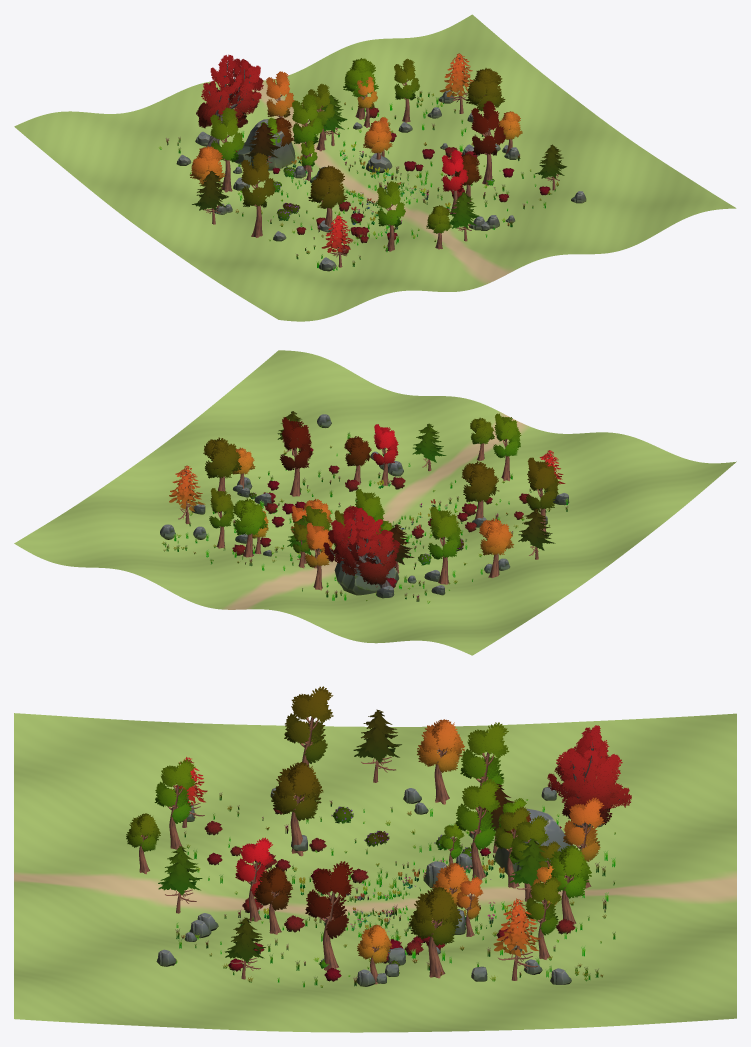
Rendered from clearing.glb.
3 renders of one model, top to bottom at view 1: azimuth 30°, elevation 25°; view 2: azimuth 150°, elevation 25°; view 3: azimuth 270°, elevation 25°, orthographic. The views are drawn at different scales.
Parts seen in each view (by area): view 1: ClearingMoss_surface, Leaves_NormalTree.002_surface, AutumnLeaves_surface, Leaves_TwistedTree.001_surface, Rocks.001_surface, Leaves_Pine_surface, Bark_NormalTree_surface, Grass_surface, Flowers_surface; view 2: ClearingMoss_surface, Leaves_NormalTree.002_surface, Leaves_TwistedTree.001_surface, AutumnLeaves_surface, Rocks.001_surface, Bark_NormalTree_surface, Leaves_Pine_surface, Grass_surface; view 3: ClearingMoss_surface, Leaves_NormalTree.002_surface, AutumnLeaves_surface, Leaves_TwistedTree.001_surface, Bark_NormalTree_surface, Rocks.001_surface, Leaves_Pine_surface, Grass_surface, Flowers_surface.
Boxes of the visible parts, <box> form: ClearingMoss_surface: <box>14,14,736,321</box>; Leaves_NormalTree.002_surface: <box>210,58,505,233</box>; AutumnLeaves_surface: <box>190,53,522,252</box>; Leaves_TwistedTree.001_surface: <box>196,54,550,254</box>; Rocks.001_surface: <box>176,90,586,271</box>; Leaves_Pine_surface: <box>192,95,566,228</box>; Bark_NormalTree_surface: <box>201,55,561,267</box>; Grass_surface: <box>159,91,558,270</box>; Flowers_surface: <box>274,144,493,229</box>; ClearingMoss_surface: <box>14,350,736,655</box>; Leaves_NormalTree.002_surface: <box>203,413,559,565</box>; Leaves_TwistedTree.001_surface: <box>232,447,531,587</box>; AutumnLeaves_surface: <box>169,424,565,567</box>; Rocks.001_surface: <box>160,414,569,598</box>; Bark_NormalTree_surface: <box>178,414,549,590</box>; Leaves_Pine_surface: <box>277,411,555,564</box>; Grass_surface: <box>162,425,568,603</box>; ClearingMoss_surface: <box>14,713,736,1032</box>; Leaves_NormalTree.002_surface: <box>126,686,591,968</box>; AutumnLeaves_surface: <box>172,719,604,963</box>; Leaves_TwistedTree.001_surface: <box>204,725,631,981</box>; Bark_NormalTree_surface: <box>139,716,591,984</box>; Rocks.001_surface: <box>156,787,602,986</box>; Leaves_Pine_surface: <box>158,709,550,963</box>; Grass_surface: <box>175,792,615,987</box>; Flowers_surface: <box>257,806,511,966</box>.
Bounding box in the file's own units: 42 × 9.02 × 42.
Materials: 12 (11 with a texture image).
